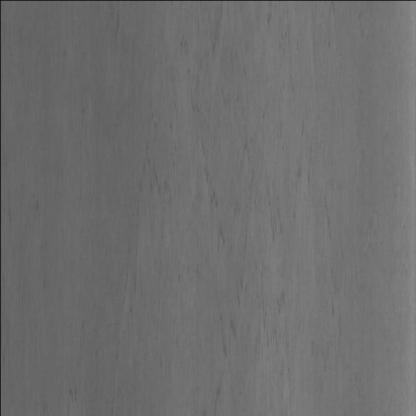silk_spot: (179, 117, 287, 324)
